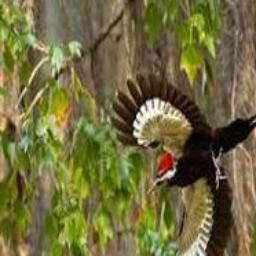Woodpecker: (106, 70, 256, 256)
